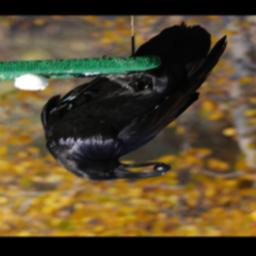Crow: (39, 22, 227, 181)
